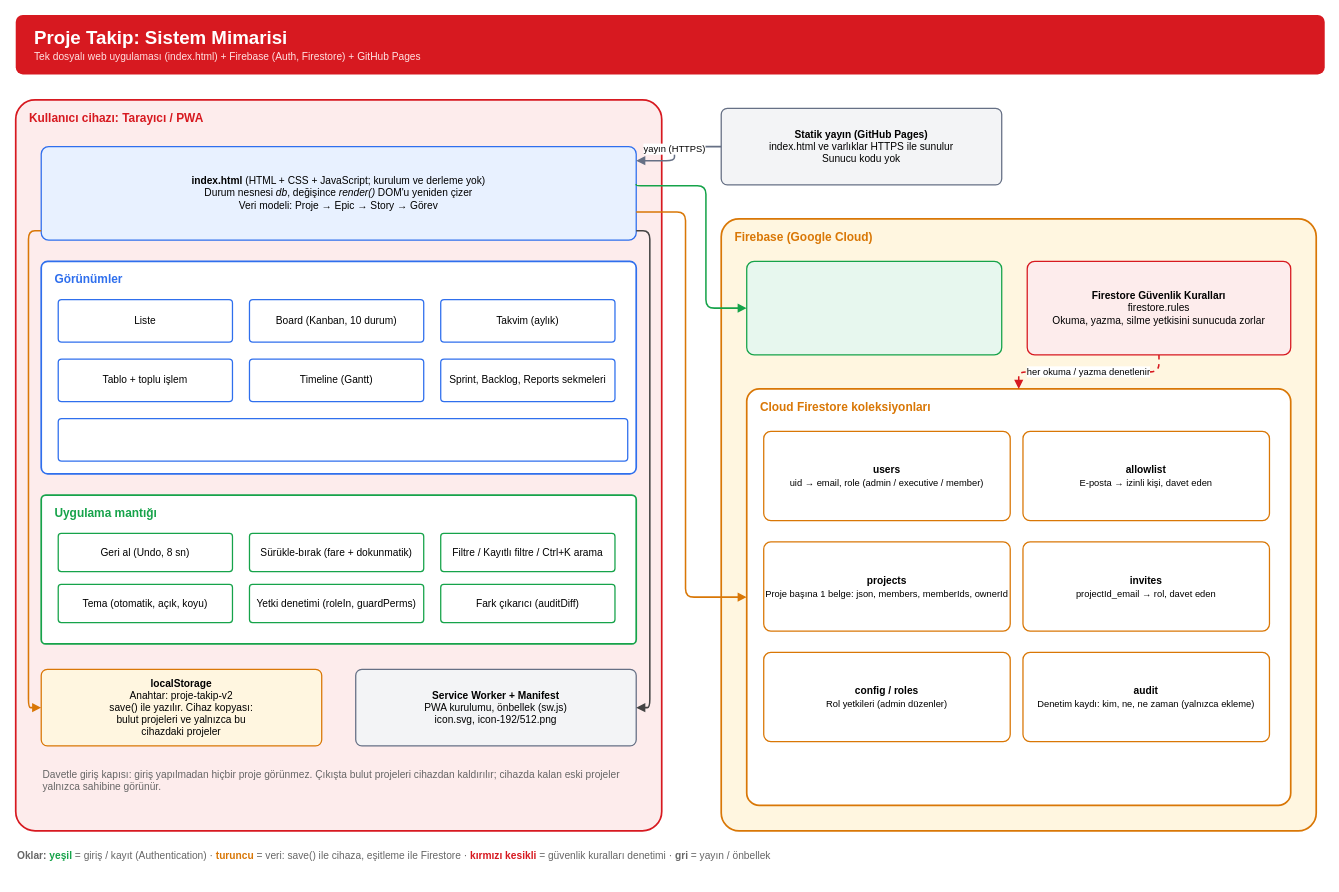
Image size: 1339x892. Some labels were removed from this diagram. Here are the shapes that lost their labels. From the top down, the centre of each, then its label:
pixel 874 307: Authentication E-posta / şifre E-posta doğrulama, şifre sıfırlama
pixel 342 439: Görev sayfası: açıklama, alt görev, bağlantılar, yorum, etkinlik geçmişi, süre
